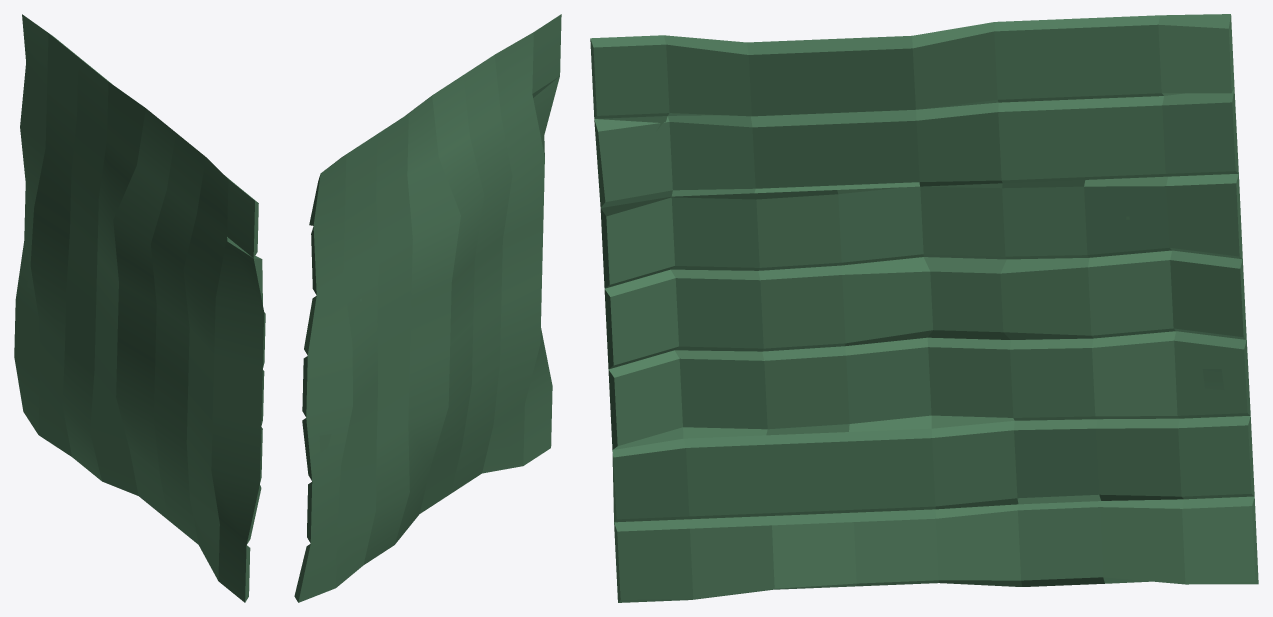
File: priem_broken.fbx
The picture shows the model from 3 angles, left to right: view 1: azimuth 30°, elevation 25°; view 2: azimuth 150°, elevation 25°; view 3: azimuth 270°, elevation 25°; orthographic projection. The views are drawn at different scales.
Visible parts, largest first — view 1: broken; view 2: broken; view 3: broken.
Boxes of the visible parts, x1,y1,x2,y2 form: broken: [14, 14, 265, 602]; broken: [294, 14, 561, 602]; broken: [590, 14, 1258, 602].
Size of the model in its own units: 1.92 by 19.42 by 19.99.
